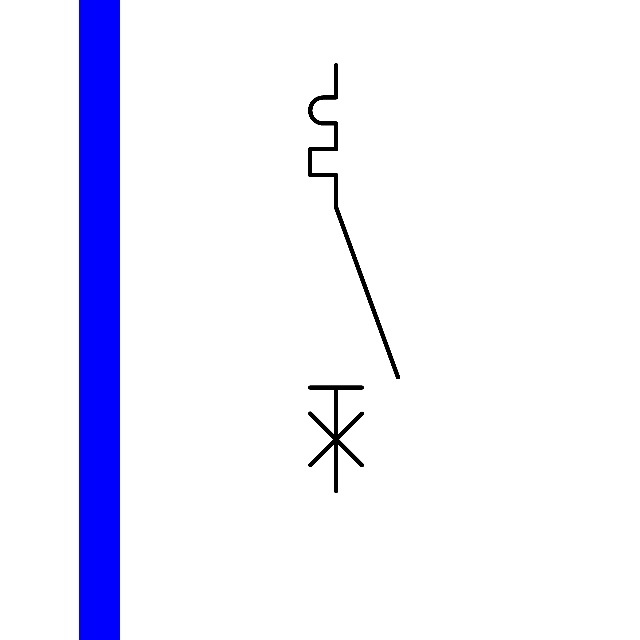interruptor_termomagnetico: (299, 54, 408, 502)
